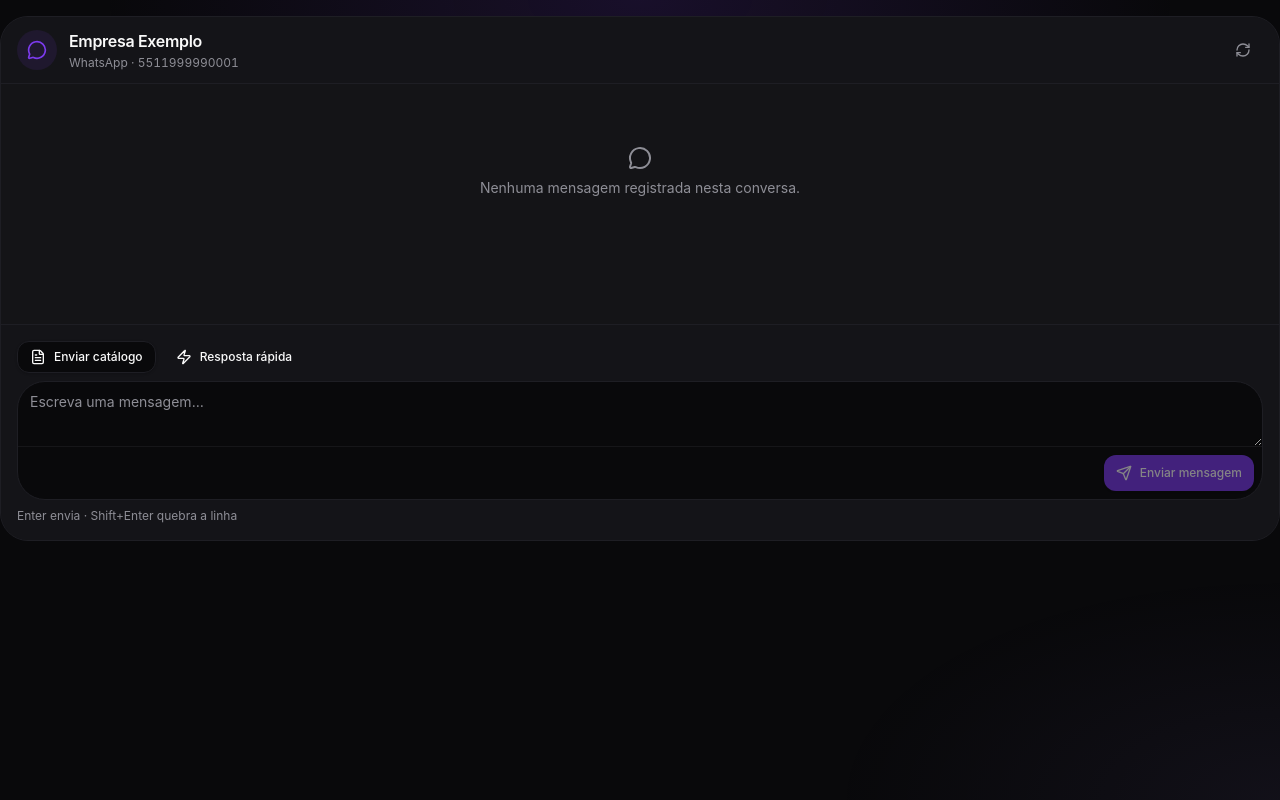
Test case: mostra o balão imediatamente e envia mensagens consecutivas na ordem
The width and height of the screenshot is (1280, 800).
Later steps or results of the test are not shown.
Expected: the text "Nenhuma mensagem registrada nesta conversa." is shown, [480,178,800,198]
Type "Primeira" into the text box named "Sua mensagem" at (640, 414), box [18,382,1262,446]
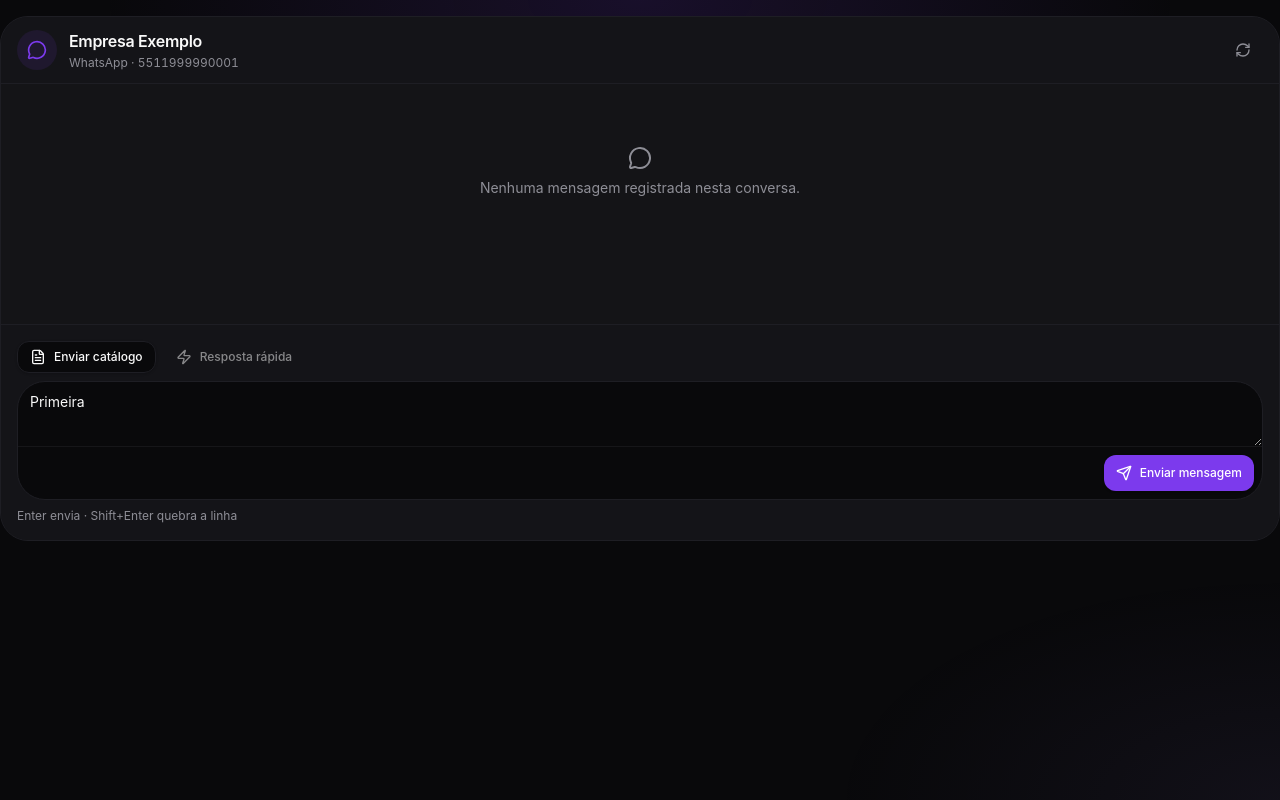
Press Enter in the text box named "Sua mensagem", box [18,382,1262,446]
Press Enter in the text box named "Sua mensagem", box [18,382,1262,446]
Press Enter in the text box named "Sua mensagem", box [18,382,1262,446]
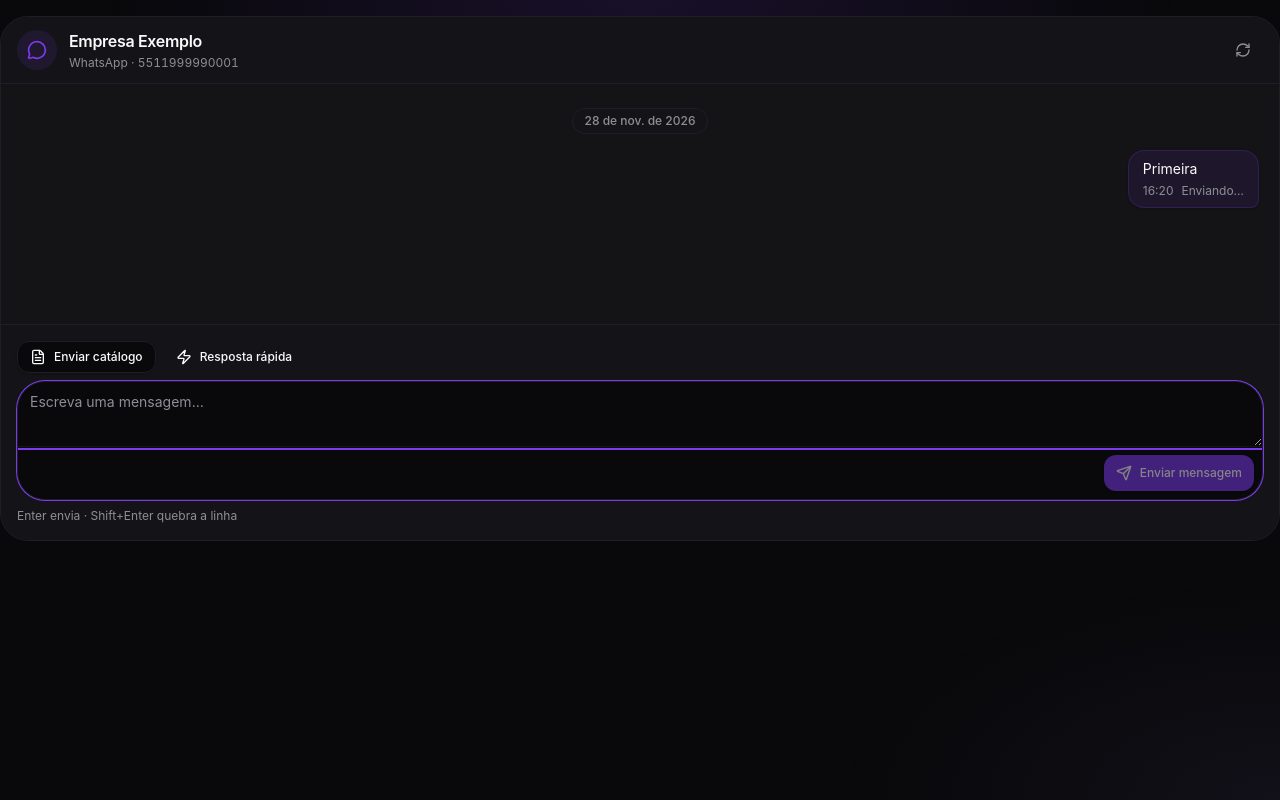
Expected: the text box named "Sua mensagem" is empty, [18,382,1262,446]
Expected: the text "Primeira" is shown, [1143,160,1198,177]
Expected: the text "Enviando…" is shown, [1182,183,1244,199]
